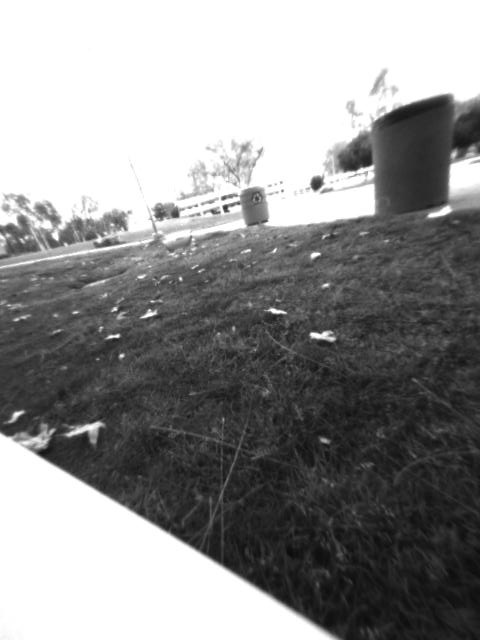trashcan: (369, 90, 454, 217), (239, 186, 271, 226)
